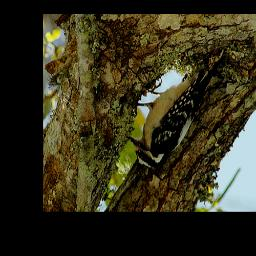Woodpecker: (126, 51, 227, 174)
